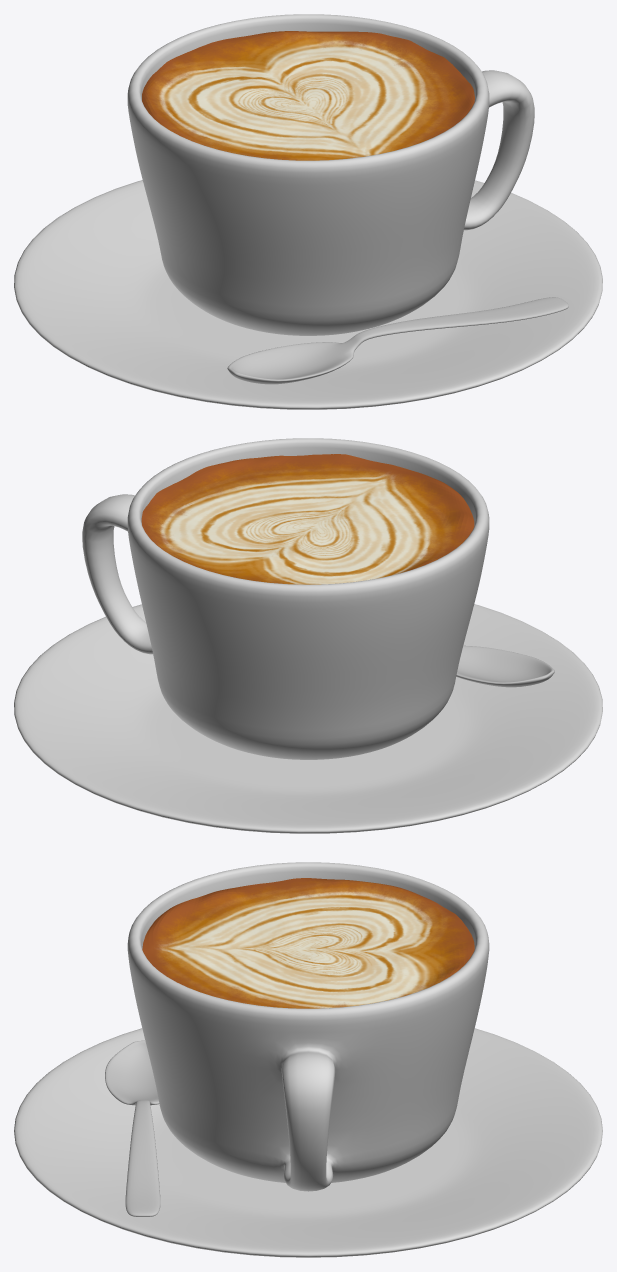
File: drink1.glb
3 views of the same model, one above another, from view 1: azimuth 30°, elevation 25°; view 2: azimuth 150°, elevation 25°; view 3: azimuth 270°, elevation 25° (orthographic).
Visible parts, largest first — view 1: Cup, Saucer, Latte, Spoon; view 2: Cup, Saucer, Latte, Spoon; view 3: Saucer, Cup, Latte, Spoon.
Boxes of the visible parts, x1=… form: Cup: x1=127, y1=14, x2=534, y2=335; Saucer: x1=14, y1=180, x2=602, y2=409; Latte: x1=142, y1=31, x2=474, y2=160; Spoon: x1=227, y1=297, x2=568, y2=384; Cup: x1=82, y1=438, x2=489, y2=759; Saucer: x1=14, y1=604, x2=602, y2=833; Latte: x1=141, y1=454, x2=474, y2=584; Spoon: x1=456, y1=645, x2=554, y2=687; Saucer: x1=14, y1=1028, x2=602, y2=1257; Cup: x1=127, y1=862, x2=489, y2=1191; Latte: x1=142, y1=878, x2=474, y2=1008; Spoon: x1=105, y1=1040, x2=160, y2=1216.
Bounding box in the file's own units: 1.25 × 0.5274 × 1.25.
Materials: 3 (1 with a texture image).
